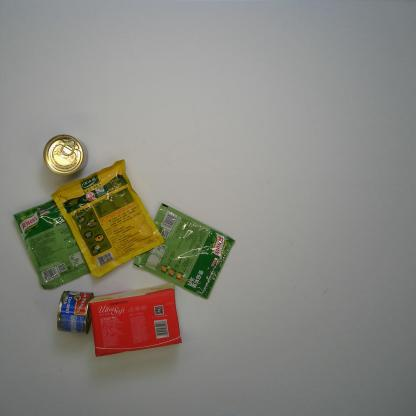Canned Food: (42, 134, 89, 176), (56, 290, 95, 335)
Seasoner: (50, 158, 165, 279), (132, 202, 235, 300), (12, 199, 91, 290)
Tissue: (89, 282, 182, 358)
